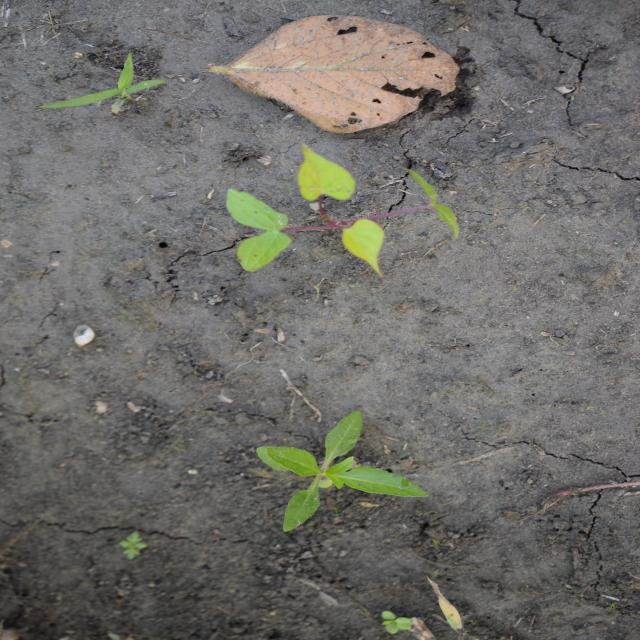Eclipta: (255, 408, 431, 533)
MorningGlory: (224, 140, 463, 280)
